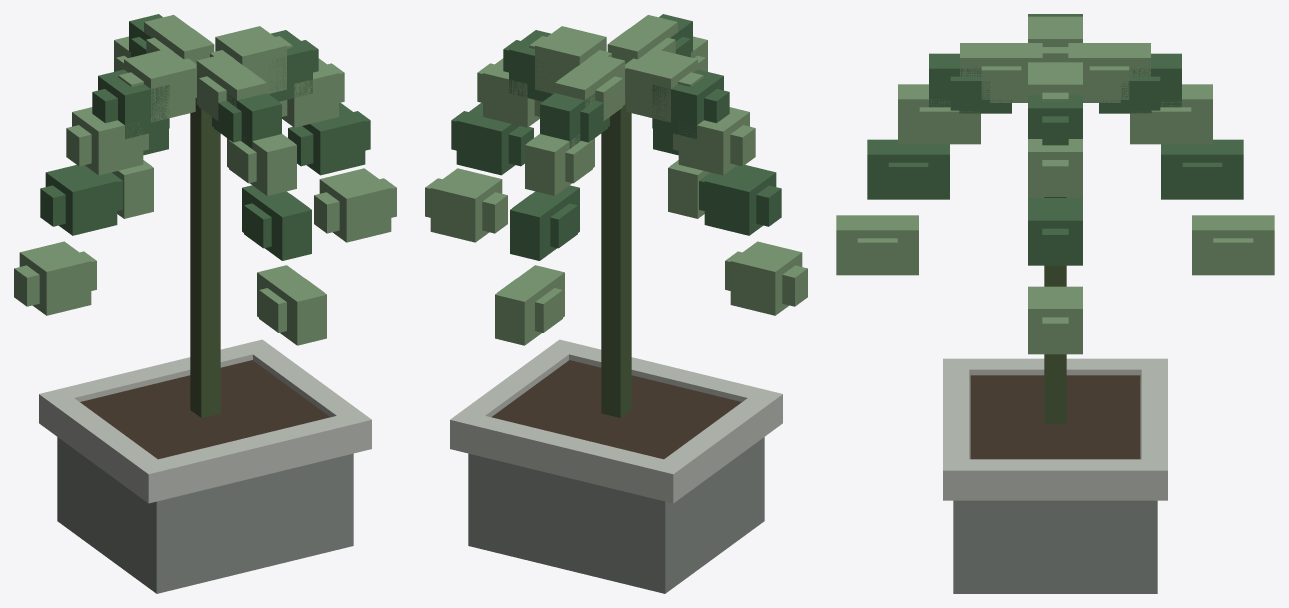
Rendered from CMU3DPottedPlant26.glb.
3 views of the same model, side by side, from view 1: azimuth 30°, elevation 25°; view 2: azimuth 150°, elevation 25°; view 3: azimuth 270°, elevation 25° (orthographic). The views are drawn at different scales.
Visible parts, largest first — view 1: leaf center (×17), square pot body, exposed soil, leaf tip (×11), end rim (×2), long rim (×2), stem; view 2: leaf center (×17), square pot body, exposed soil, leaf tip (×11), end rim (×2), long rim (×2), stem; view 3: leaf center (×16), square pot body, leaf tip (×14), exposed soil, long rim (×2), end rim (×2), stem.
Boxes of the visible parts, left/top/right/bottom form: leaf center (×17): left=19, top=15, right=391, bottom=345; square pot body: left=57, top=437, right=353, bottom=593; exposed soil: left=80, top=360, right=330, bottom=459; leaf tip (×11): left=14, top=67, right=396, bottom=332; end rim (×2): left=61, top=345, right=349, bottom=497; long rim (×2): left=39, top=339, right=371, bottom=503; stem: left=190, top=98, right=220, bottom=417; leaf center (×17): left=430, top=15, right=802, bottom=345; square pot body: left=468, top=437, right=764, bottom=593; exposed soil: left=491, top=360, right=741, bottom=459; leaf tip (×11): left=425, top=67, right=807, bottom=332; end rim (×2): left=472, top=345, right=760, bottom=497; long rim (×2): left=450, top=339, right=782, bottom=503; stem: left=601, top=98, right=631, bottom=417; leaf center (×16): left=836, top=16, right=1274, bottom=354; square pot body: left=953, top=379, right=1157, bottom=593; leaf tip (×14): left=857, top=66, right=1253, bottom=353; exposed soil: left=970, top=375, right=1140, bottom=459; long rim (×2): left=943, top=358, right=1167, bottom=500; end rim (×2): left=943, top=369, right=1167, bottom=459; stem: left=1044, top=197, right=1066, bottom=424.
Bounding box in the file's own units: 0.794 × 0.9872 × 0.794.
